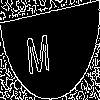M: (25, 24, 51, 75)
